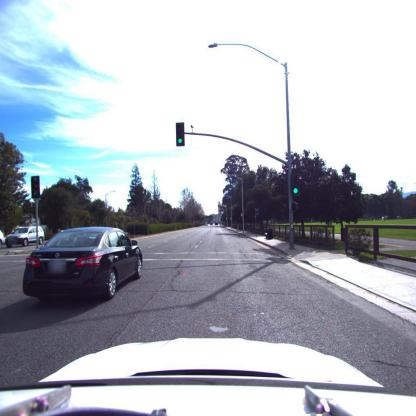car: (22, 227, 146, 304), (7, 225, 46, 247)
